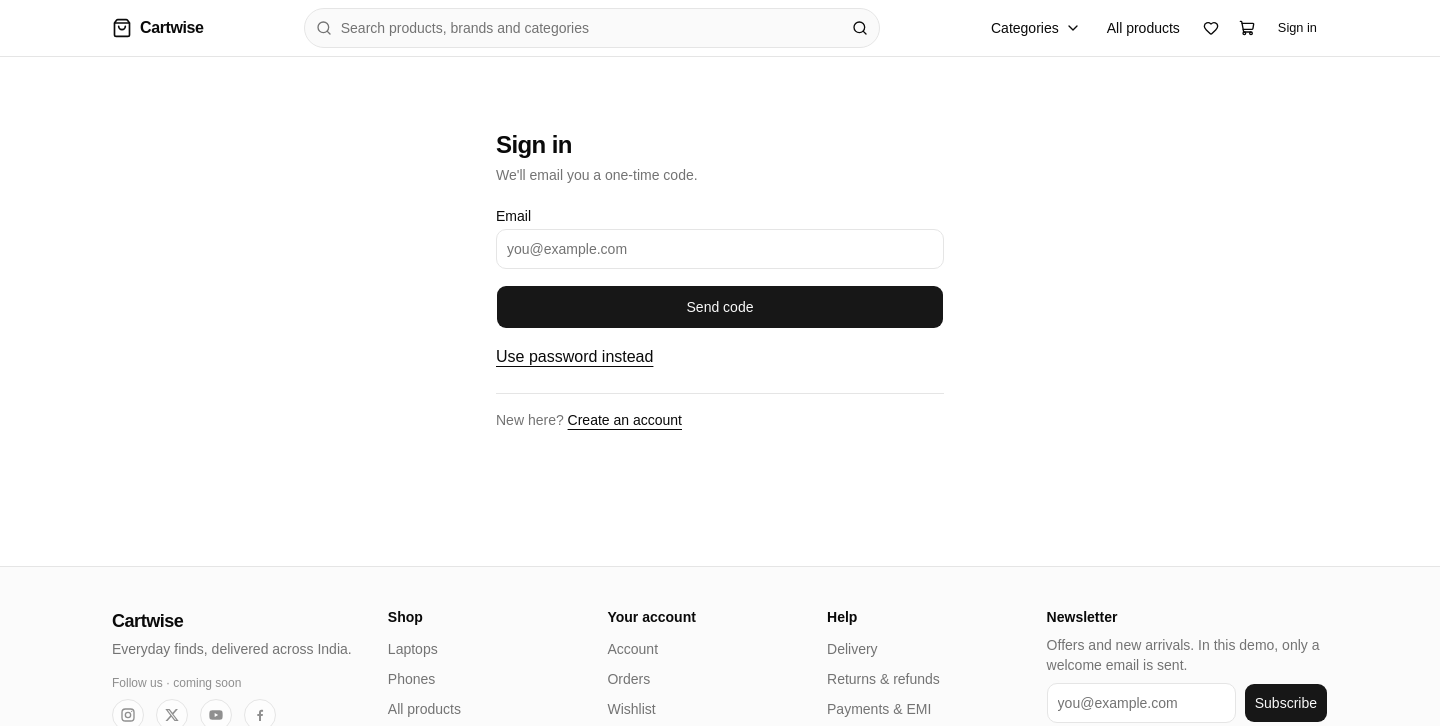
Test: sign-in › offers sign-up for an unknown email, keeping the email
The image size is (1440, 726).
Type "new@example.com" into the field labelled "Email" at (720, 249), box [496,229,944,269]
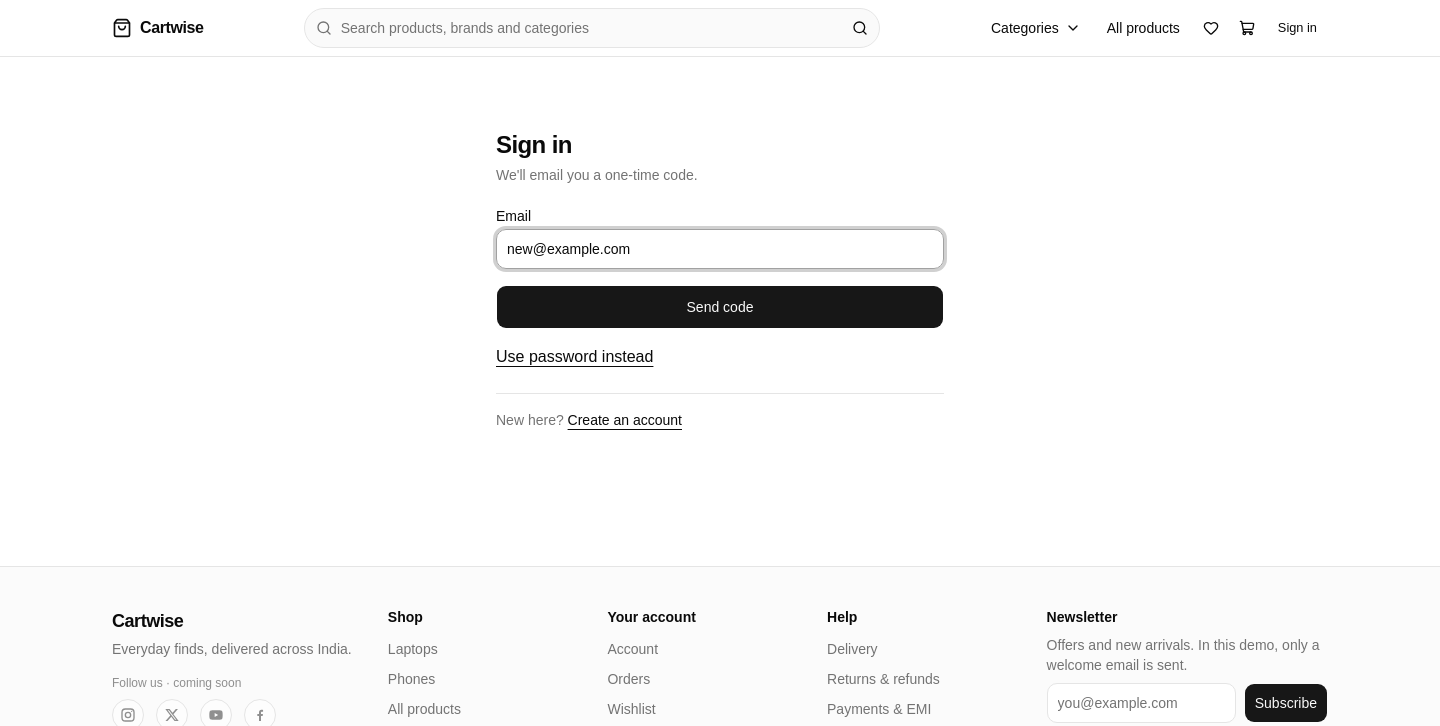
Click the button "Send code" at (720, 307), box [496,285,944,329]
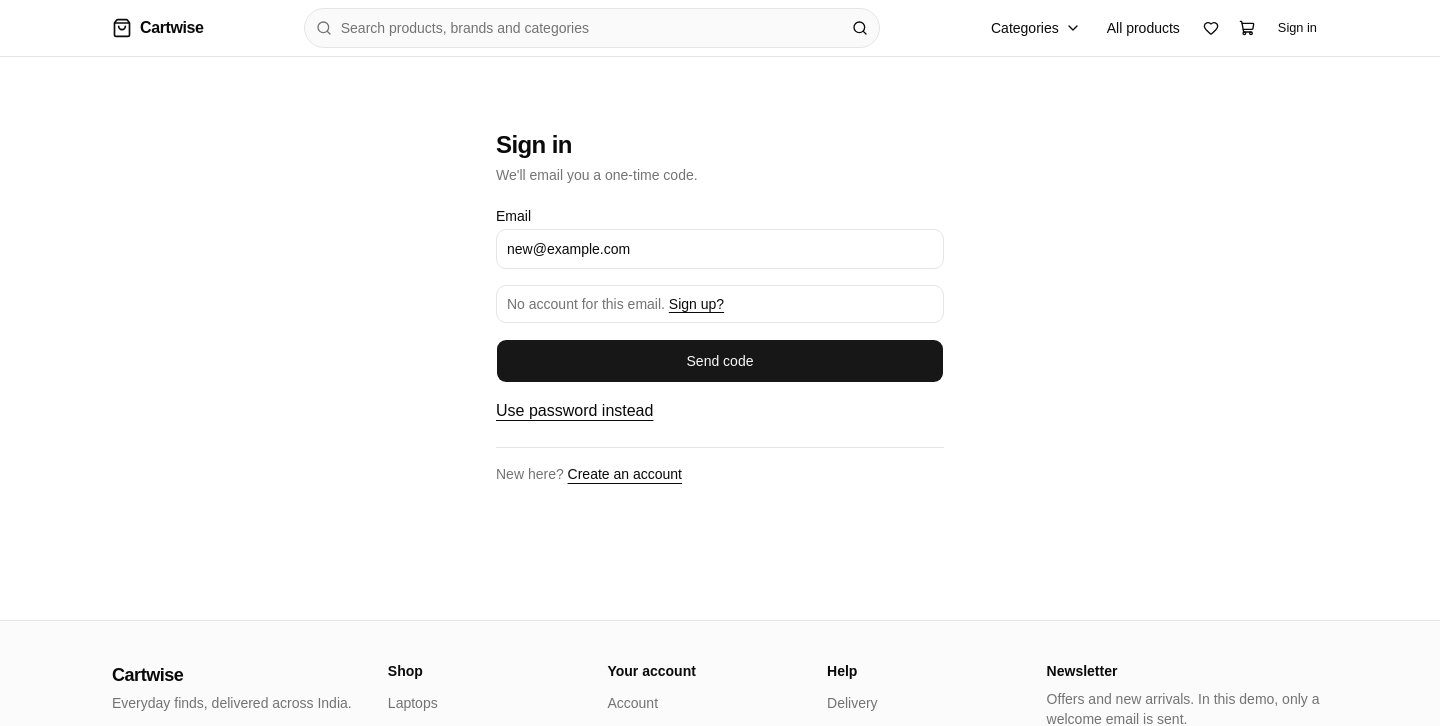
Expected: the text "No account for this email. Sign up?" is shown, [507,296,724,312]
Click the link "Sign up?" at (697, 304), box [669,296,724,312]
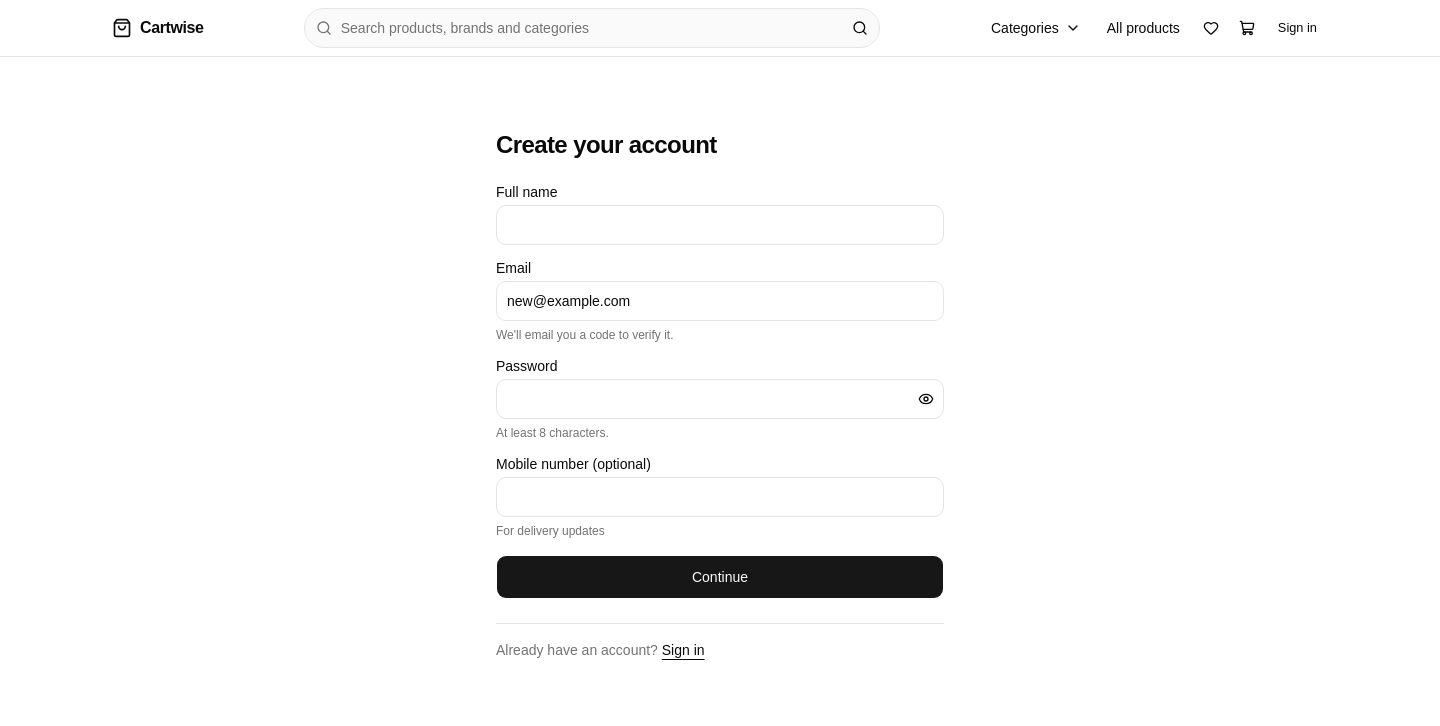
Expected: the field labelled "Full name" is shown, [496,205,944,245]
Expected: the field labelled "Email" holds "new@example.com", [496,281,944,321]
